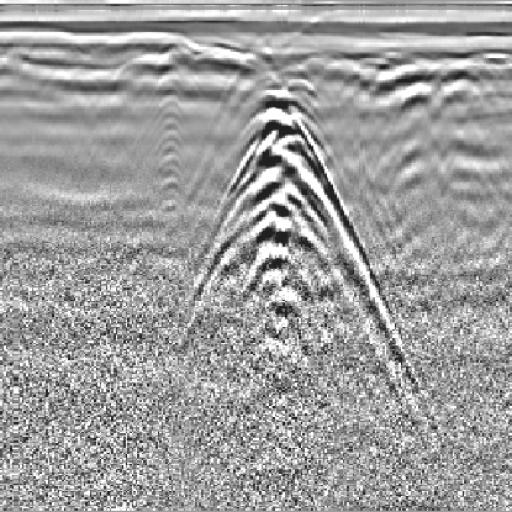metalic: (174, 62, 382, 363)
